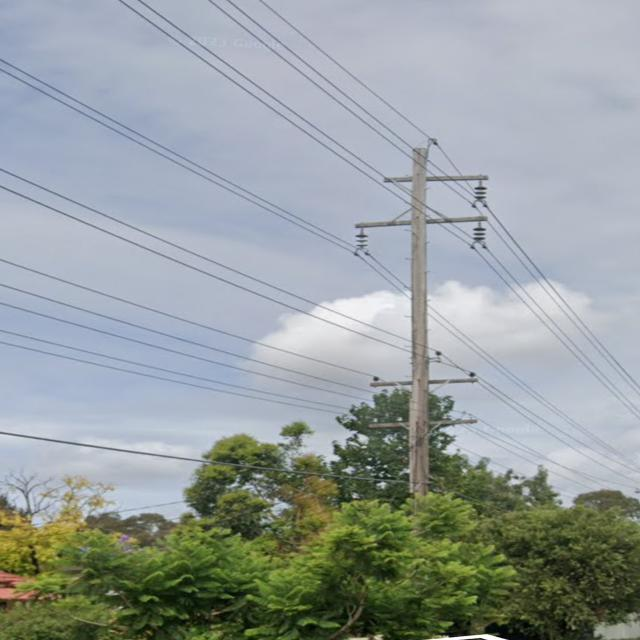HV-transmission: (350, 139, 490, 258)
crossarm: (358, 213, 489, 226), (370, 418, 477, 428), (373, 378, 477, 388), (384, 174, 488, 182)
timber-pole: (411, 152, 430, 498)
